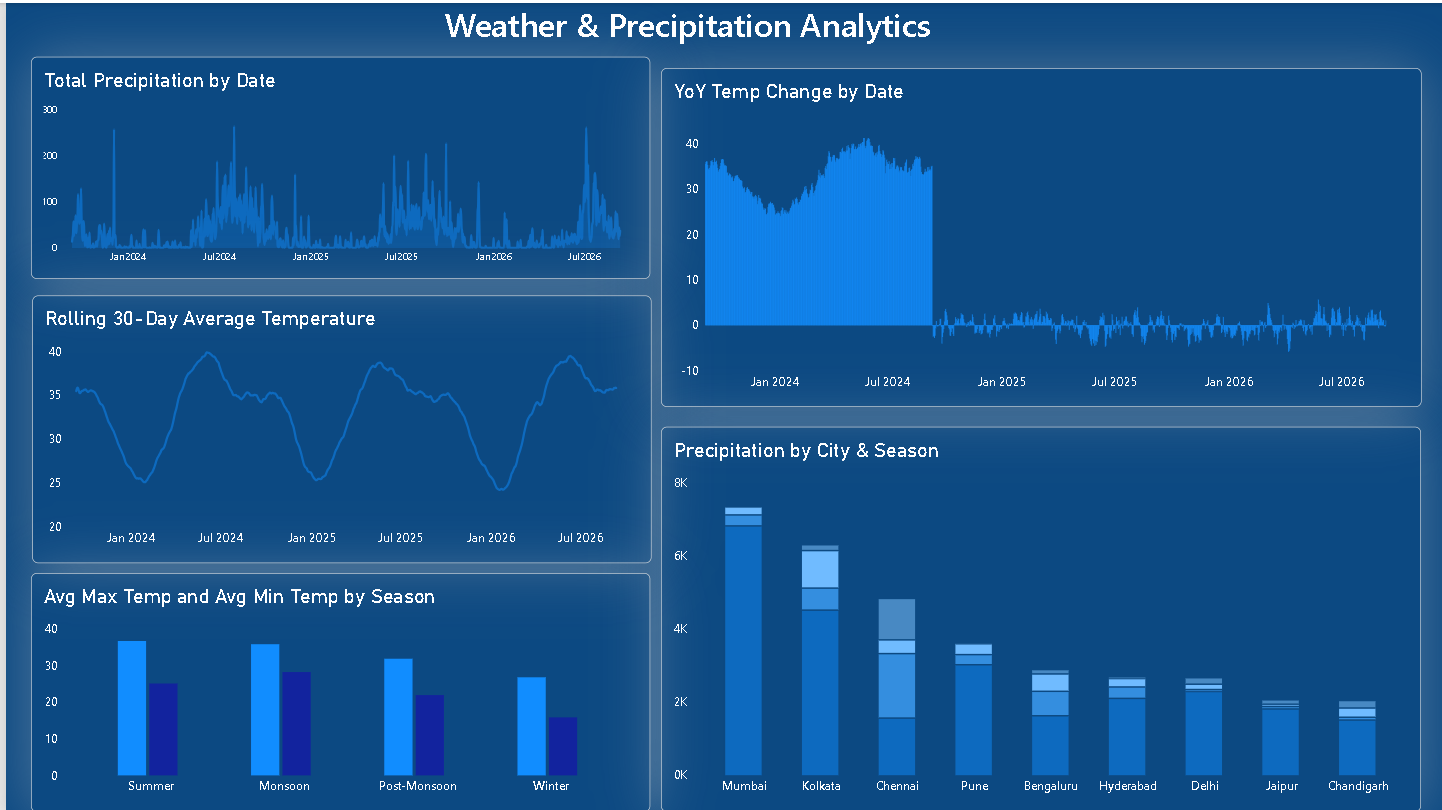

This screenshot's page, from the dashboard's own definition file:
{"tool":"powerbi","page":{"name":"Time Trends","canvas":[1920,1080],"ordinal":1},"visuals":[{"type":"lineChart","title":"Total Precipitation by Date","fields":{"Category":["public dim_date.full_date"],"Y":["public fact_weather.Total Precipitation"]},"box":[33.1,71.8,827.2,297.1],"z":0},{"type":"lineChart","title":"Rolling 30-Day Average Temperature","fields":{"Category":["public dim_date.full_date"],"Y":["public fact_weather.Rolling 30-Day Avg Temp"]},"box":[35,390.2,827.2,357.7],"z":1},{"type":"clusteredColumnChart","title":"YoY Temp Change by Date","fields":{"Category":["public dim_date.full_date"],"Y":["public fact_weather.YoY Temp Change"]},"box":[874.2,86.5,1016.1,453],"z":2},{"type":"clusteredColumnChart","fields":{"Category":["public dim_date.Season"],"Y":["public fact_weather.Avg Max Temp","public fact_weather.Avg Min Temp"]},"box":[33.1,762,827.2,319.1],"z":4},{"type":"columnChart","title":"Precipitation by City & Season","fields":{"Category":["public dim_city.city_name"],"Series":["public dim_date.Season"],"Y":["public fact_weather.Total Precipitation by Season"]},"box":[874.2,566.9,1015.2,514.3],"z":5},{"type":"textbox","box":[585.3,0,796.9,71.8],"z":6}]}

Visuals, with their boxes in screenshot pixels (x1, y1, x2, y2), scaled from the page's 1920x1080 canvas onto the 1442x810 screenshot:
"Total Precipitation by Date" lineChart: <bbox>25, 54, 646, 277</bbox>
"Rolling 30-Day Average Temperature" lineChart: <bbox>26, 293, 648, 561</bbox>
"YoY Temp Change by Date" clusteredColumnChart: <bbox>657, 65, 1420, 405</bbox>
clusteredColumnChart - public dim_date.Season x public fact_weather.Avg Max Temp: <bbox>25, 572, 646, 809</bbox>
"Precipitation by City & Season" columnChart: <bbox>657, 425, 1419, 809</bbox>
textbox: <bbox>440, 0, 1038, 54</bbox>
